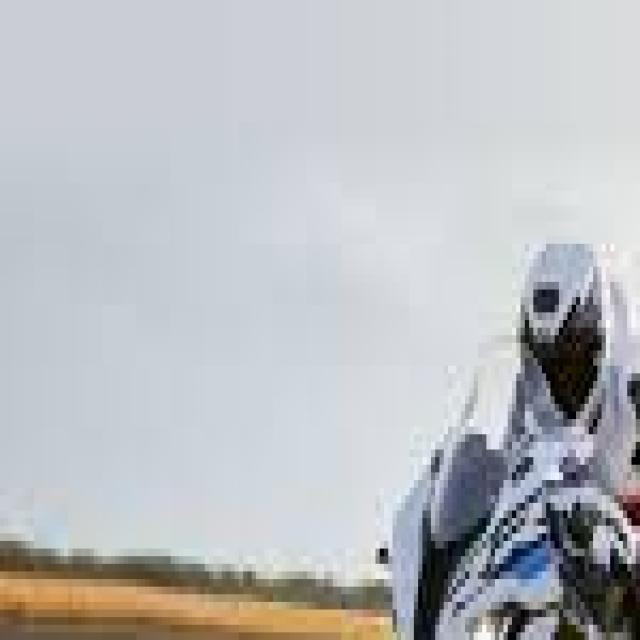bike: (345, 404, 640, 640)
